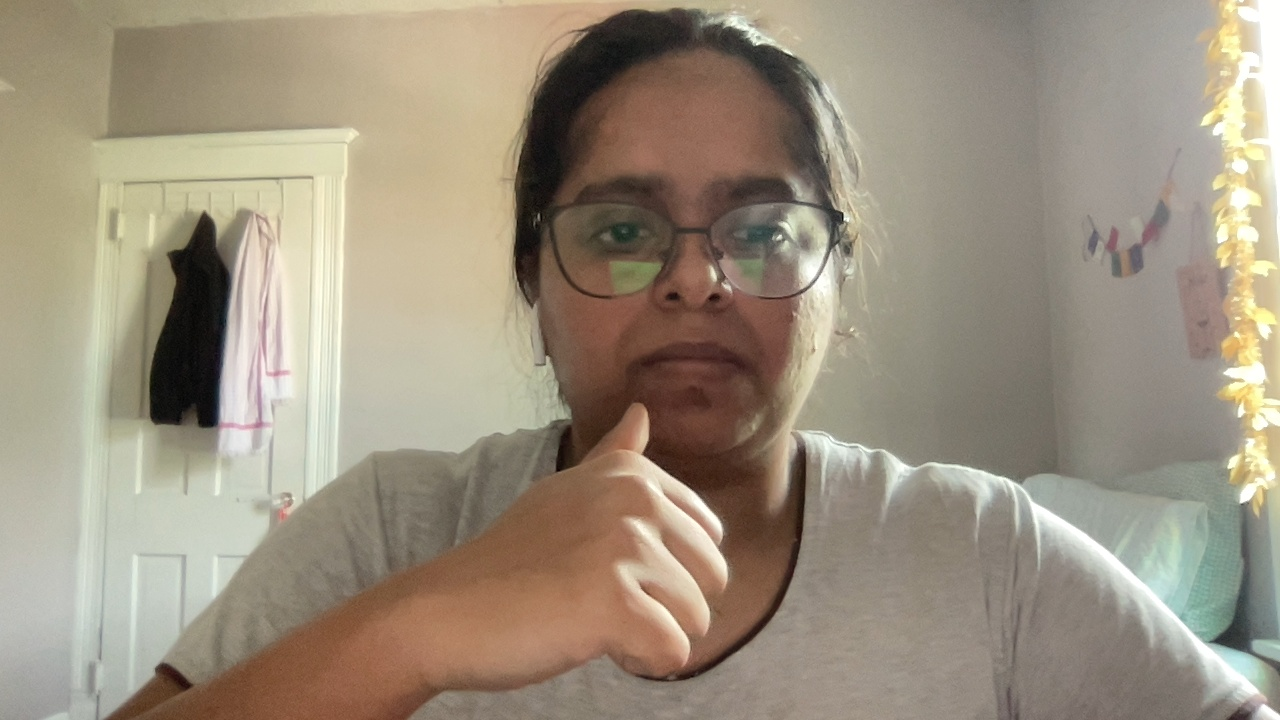ThumbsUp: (528, 402, 731, 680)
